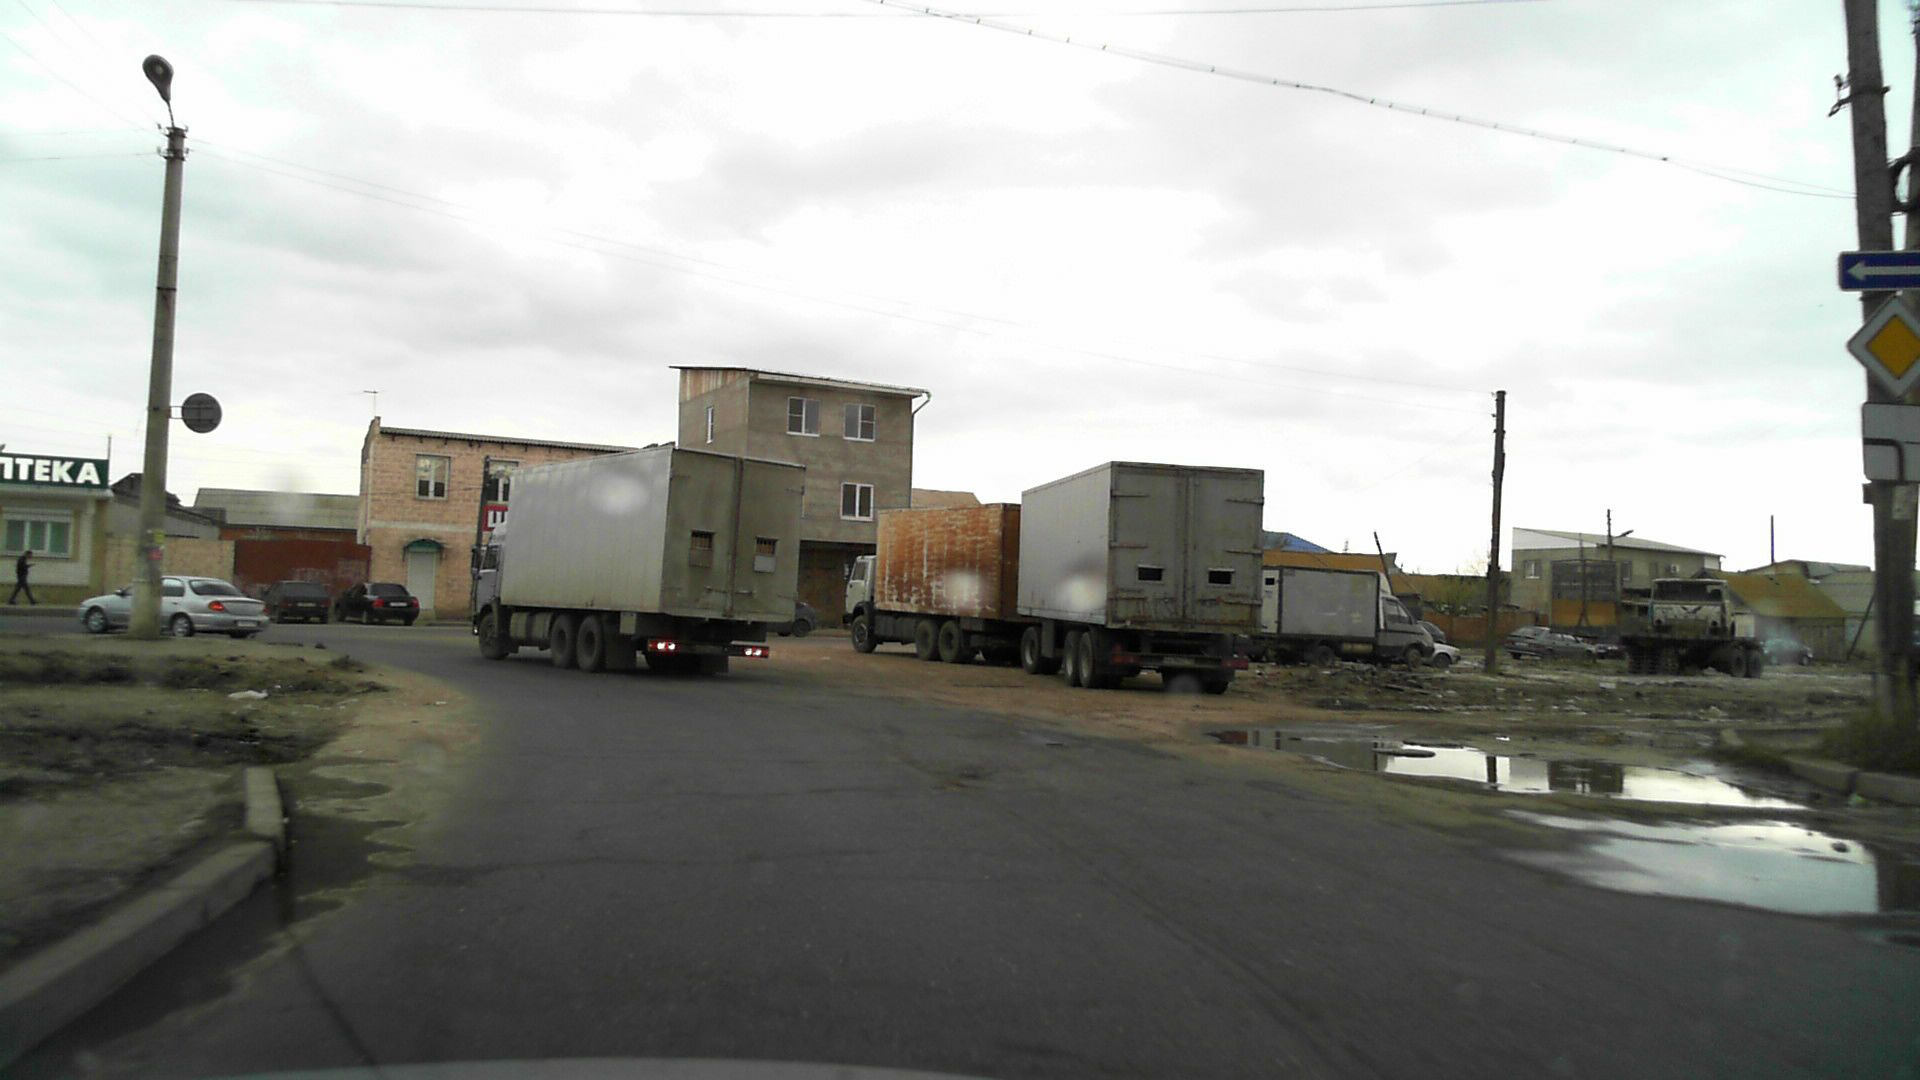One-Way Traffic: (1838, 251, 1920, 287)
